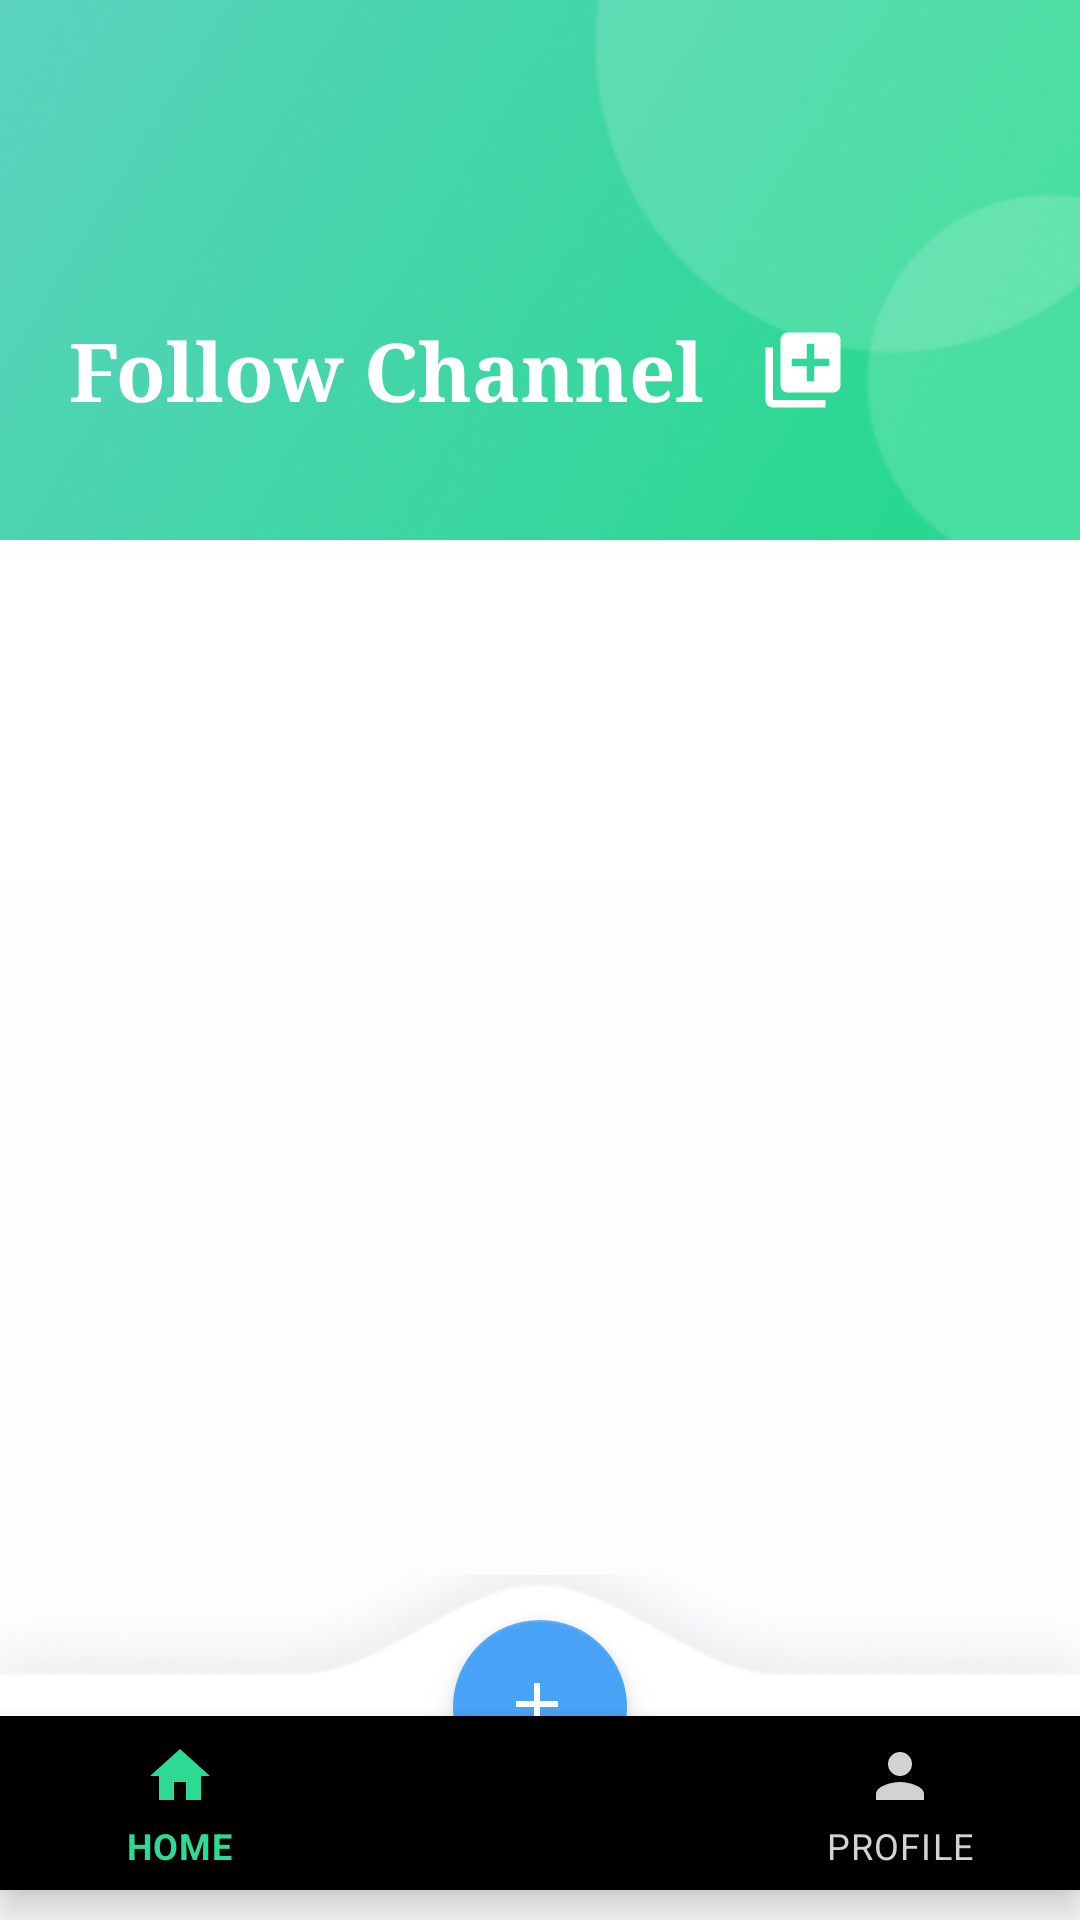

Icon click points for this 1080 x 1920 phone screenshot, format [x,y]:
add to photos: [803,361]
